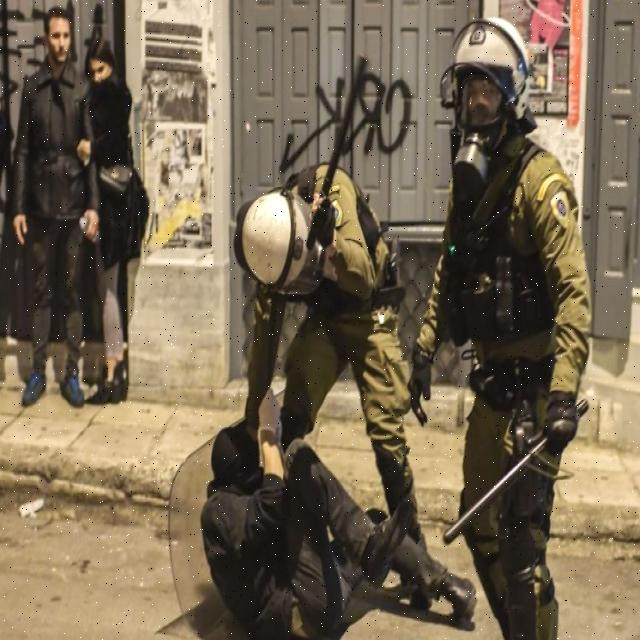police: (240, 108, 416, 640), (425, 17, 571, 640)
